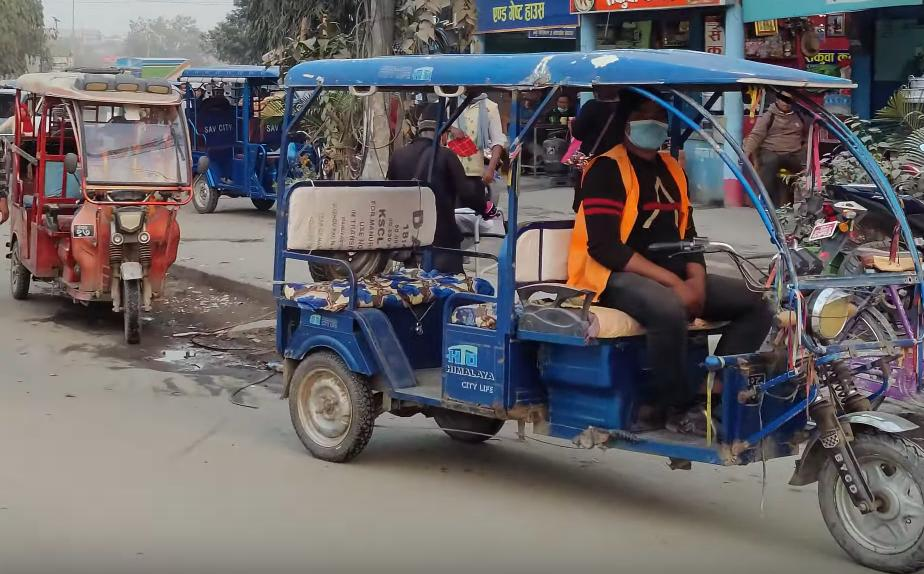e-rickshaw: (268, 51, 924, 574), (14, 61, 182, 348), (182, 62, 306, 217)
